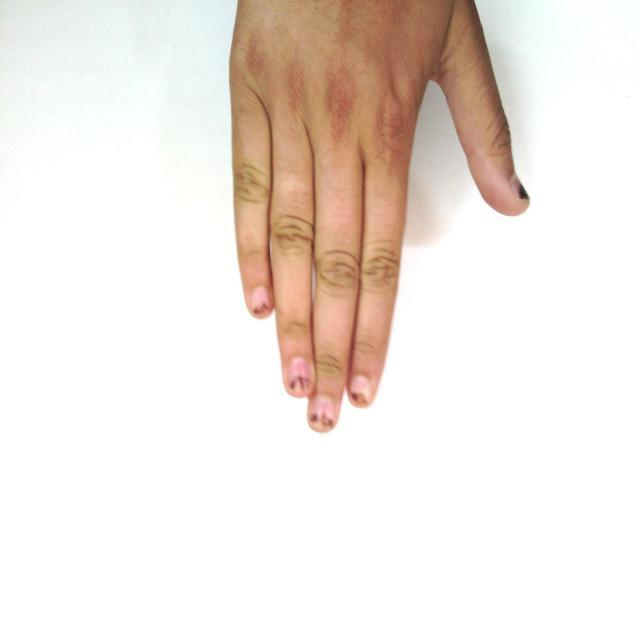Fingernail: (286, 357, 312, 393), (310, 395, 336, 430), (349, 375, 371, 407), (510, 173, 532, 201), (251, 286, 272, 315)
